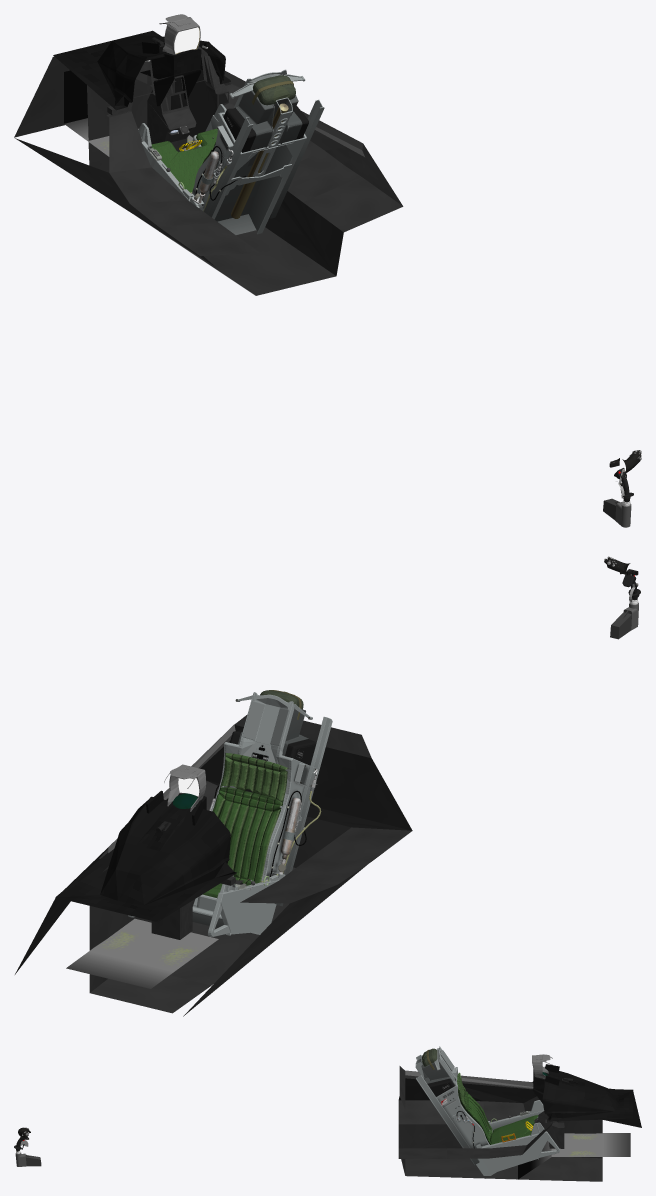
The model's file is f16_cockpit.glb.
3 views of the same model, one above another, from view 1: azimuth 30°, elevation 25°; view 2: azimuth 150°, elevation 25°; view 3: azimuth 270°, elevation 25° (orthographic). The views are drawn at different scales.
Parts seen in each view (by area): view 1: f16_cockpit; view 2: f16_cockpit; view 3: f16_cockpit.
Part boxes in pixels (box(x1,y1,x2,y2)): f16_cockpit: box(14, 14, 641, 527); f16_cockpit: box(15, 556, 640, 1016); f16_cockpit: box(14, 1046, 641, 1181).
Bounding box in the file's own units: 1.24 × 1.17 × 5.6.
Materials: 69 (44 with a texture image).
